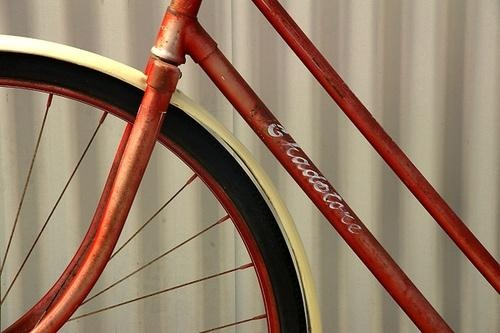bicycle: (3, 4, 499, 331)
